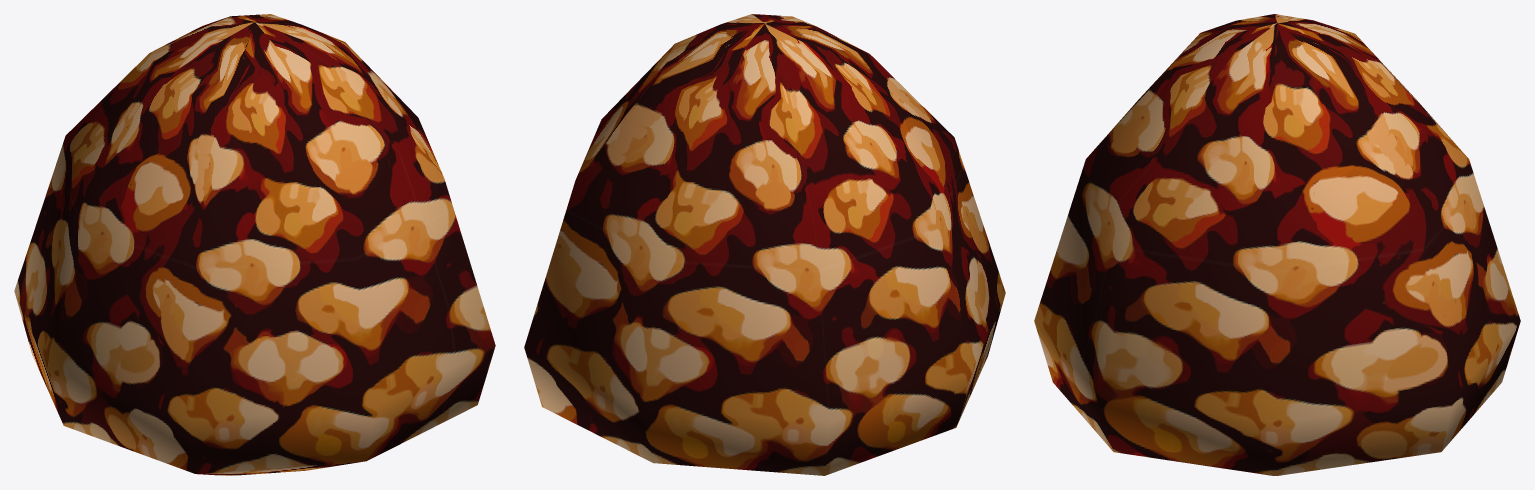
File: SM_ENV_pinecone_03.fbx
The picture shows the model from 3 angles, left to right: view 1: azimuth 30°, elevation 25°; view 2: azimuth 150°, elevation 25°; view 3: azimuth 270°, elevation 25°; orthographic projection.
Parts seen in each view (by area): view 1: SM_ENV_pinecone_03; view 2: SM_ENV_pinecone_03; view 3: SM_ENV_pinecone_03.
Boxes of the visible parts, <box> form: SM_ENV_pinecone_03: <box>14,14,495,475</box>; SM_ENV_pinecone_03: <box>524,14,1005,475</box>; SM_ENV_pinecone_03: <box>1034,14,1520,475</box>.
Size of the model in its own units: 7.18 by 6.87 by 7.26.
